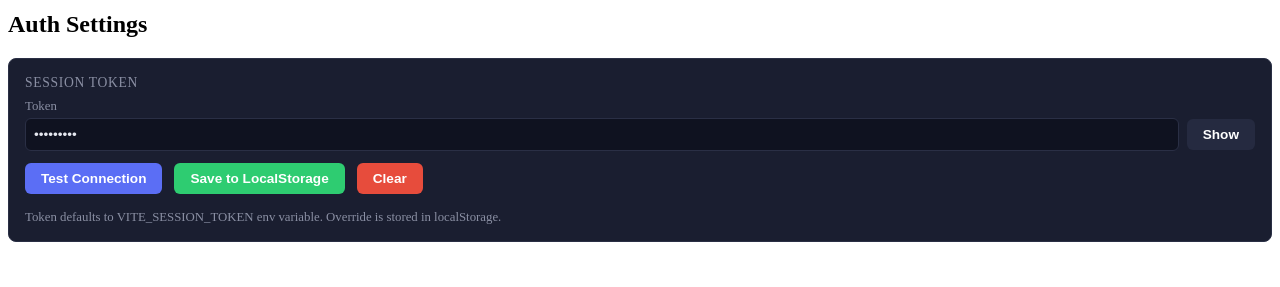
AuthSettings › clear removes token from localStorage
Click the button with test id "clear-token". click: (390, 178)
box: [357, 163, 423, 194]
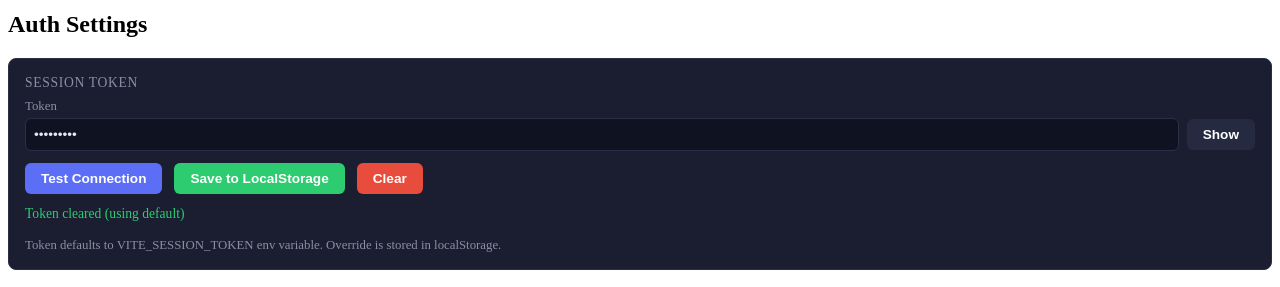
Check: the text with test id "auth-message" shows "cleared", box [25, 206, 184, 221]
